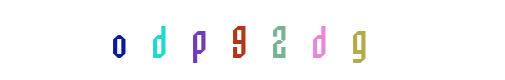2: (229, 0, 309, 80)
9: (212, 0, 292, 80)
D: (122, 0, 202, 80), (260, 0, 340, 80)
G: (300, 0, 380, 80)
O: (119, 0, 199, 80)
P: (199, 0, 279, 80)
